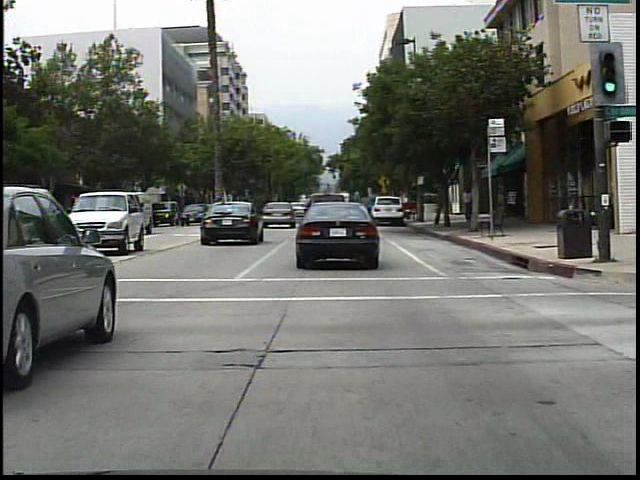person: (459, 186, 479, 228)
